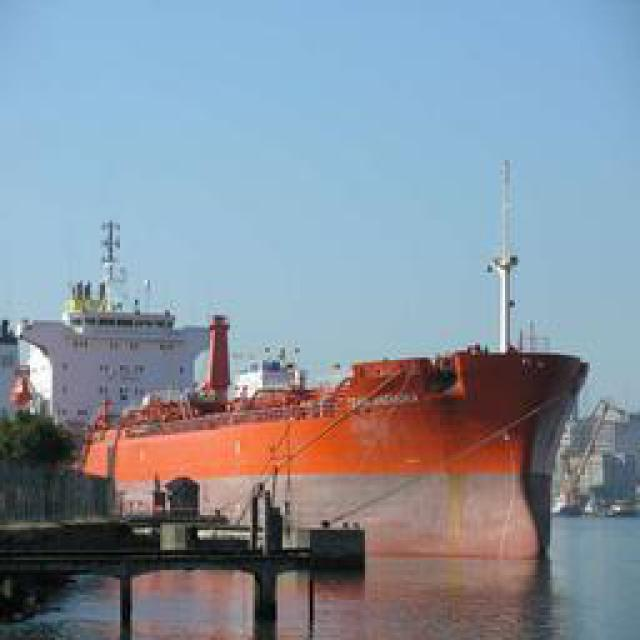Ship: (74, 335, 589, 555)
